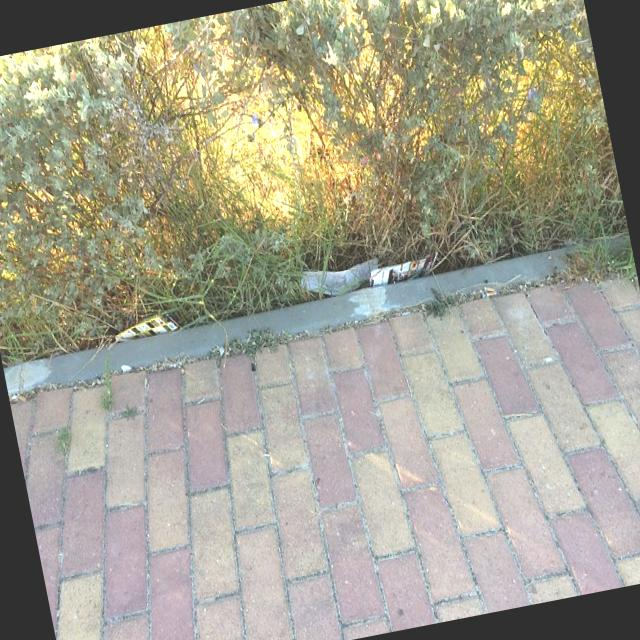Trash: (95, 300, 193, 358), (363, 242, 451, 294)
